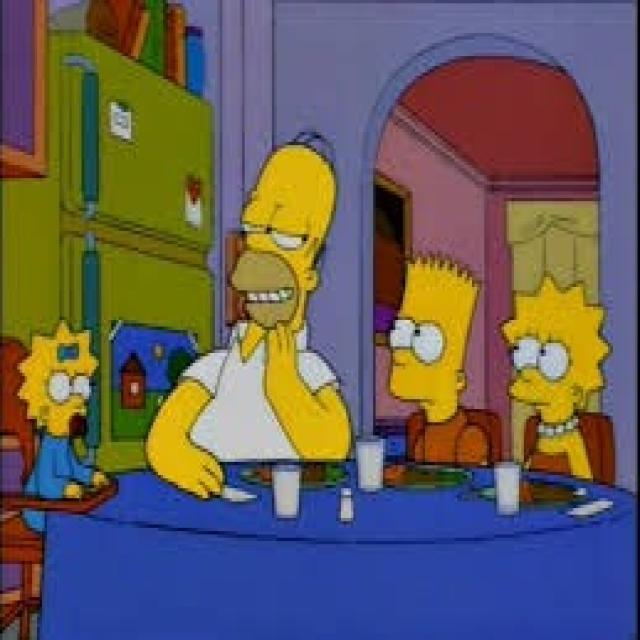Bart Simpson: (383, 246, 482, 427)
Homer Simpson: (221, 120, 342, 348)
Lisa Simpson: (496, 269, 616, 450)
Maggie Simpson: (11, 307, 98, 445)
